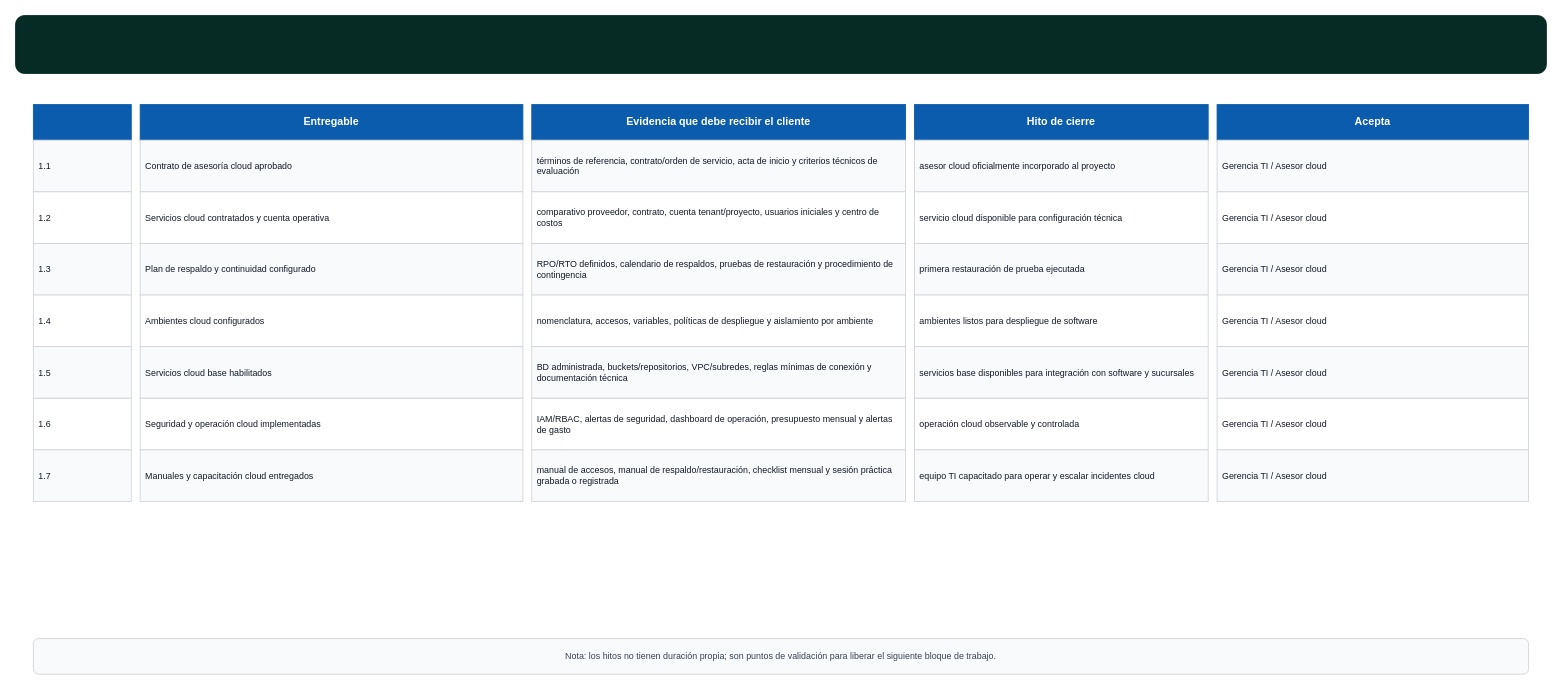
Some shapes in this 1562 by 690 pixel diagram are drawn without their labels. The box of each missing label's shape, as (x1, y1, x2, y2) in pixels:
1.0 CLOUD — Hitos, evidencias y aceptación: (15, 15, 1546, 73)
WBS: (32, 104, 131, 140)
